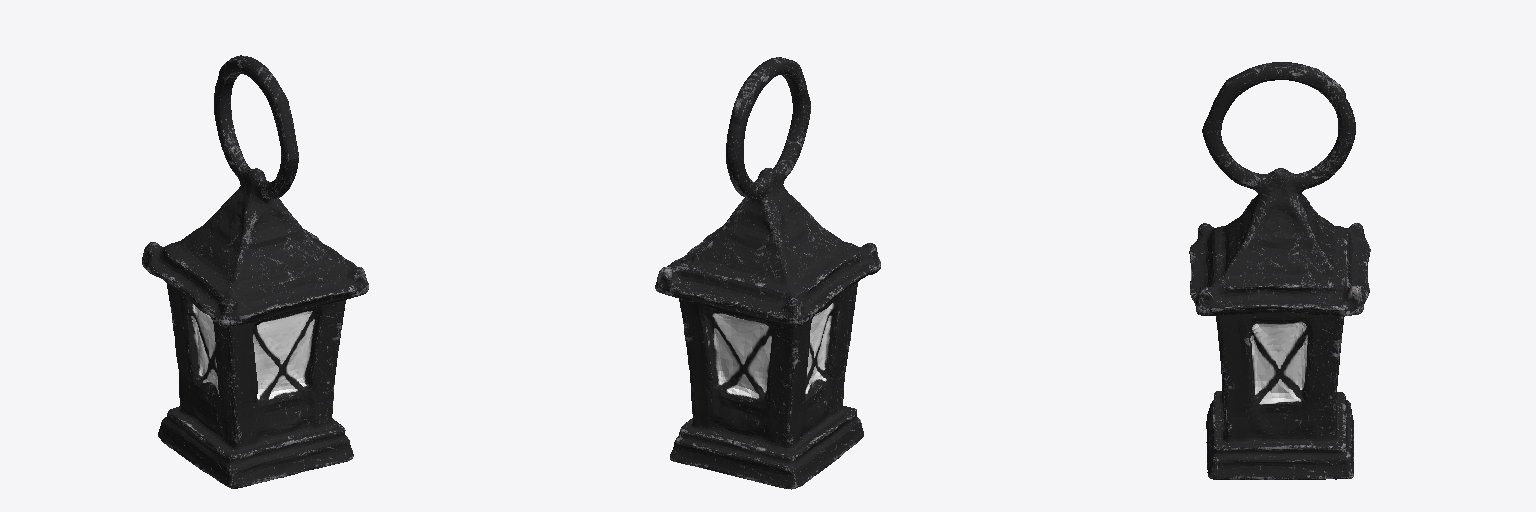
3 renders of one model, left to right at view 1: azimuth 30°, elevation 25°; view 2: azimuth 150°, elevation 25°; view 3: azimuth 270°, elevation 25°, orthographic.
Visible parts, largest first — view 1: mesh_base_material.001_0; view 2: mesh_base_material.001_0; view 3: mesh_base_material.001_0.
Boxes of the visible parts, box(x1,y1,x2,y2) form: mesh_base_material.001_0: box(142, 55, 368, 488); mesh_base_material.001_0: box(655, 57, 880, 489); mesh_base_material.001_0: box(1189, 62, 1370, 479).
Bounding box in the file's own units: 0.4274 × 0.9992 × 0.4241.
Materials: 1 (1 with a texture image).